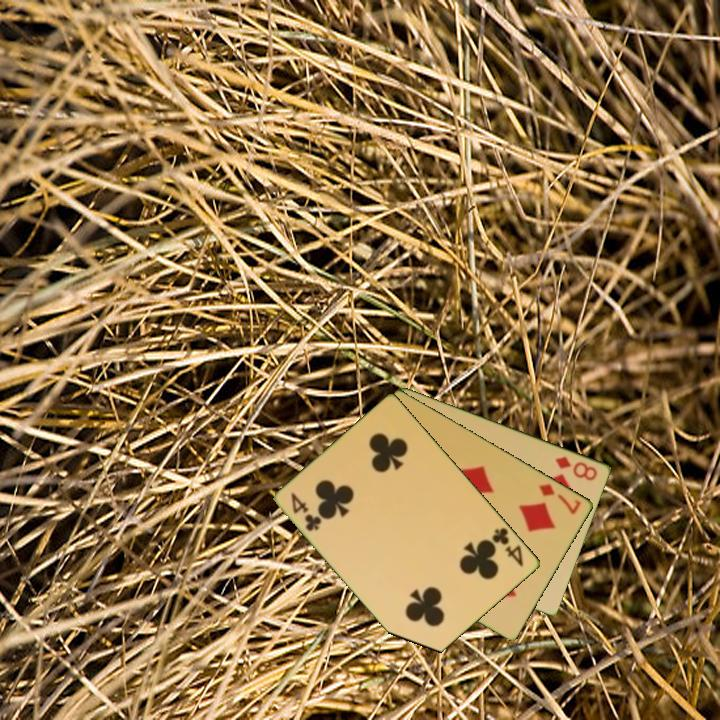4c: (489, 524, 527, 570), (287, 489, 325, 534)
7d: (536, 480, 584, 517)
8d: (552, 452, 601, 483)
